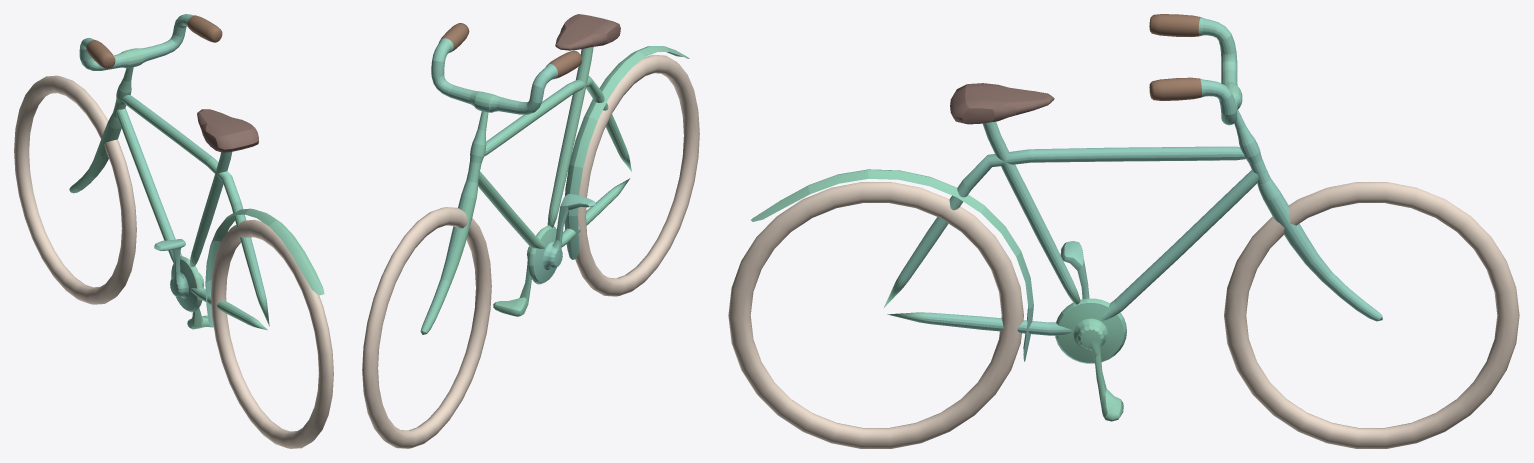
The model's file is Bike.fbx.
The picture shows the model from 3 angles, left to right: view 1: azimuth 30°, elevation 25°; view 2: azimuth 150°, elevation 25°; view 3: azimuth 270°, elevation 25°; orthographic projection. The views are drawn at different scales.
Parts seen in each view (by area): view 1: Cube.006; view 2: Cube.006; view 3: Cube.006.
Boxes of the visible parts, x1,y1,x2,y2 form: Cube.006: [14, 14, 333, 448]; Cube.006: [362, 14, 699, 448]; Cube.006: [728, 14, 1519, 448].
Bounding box in the file's own units: 46.8 × 118 × 210.
